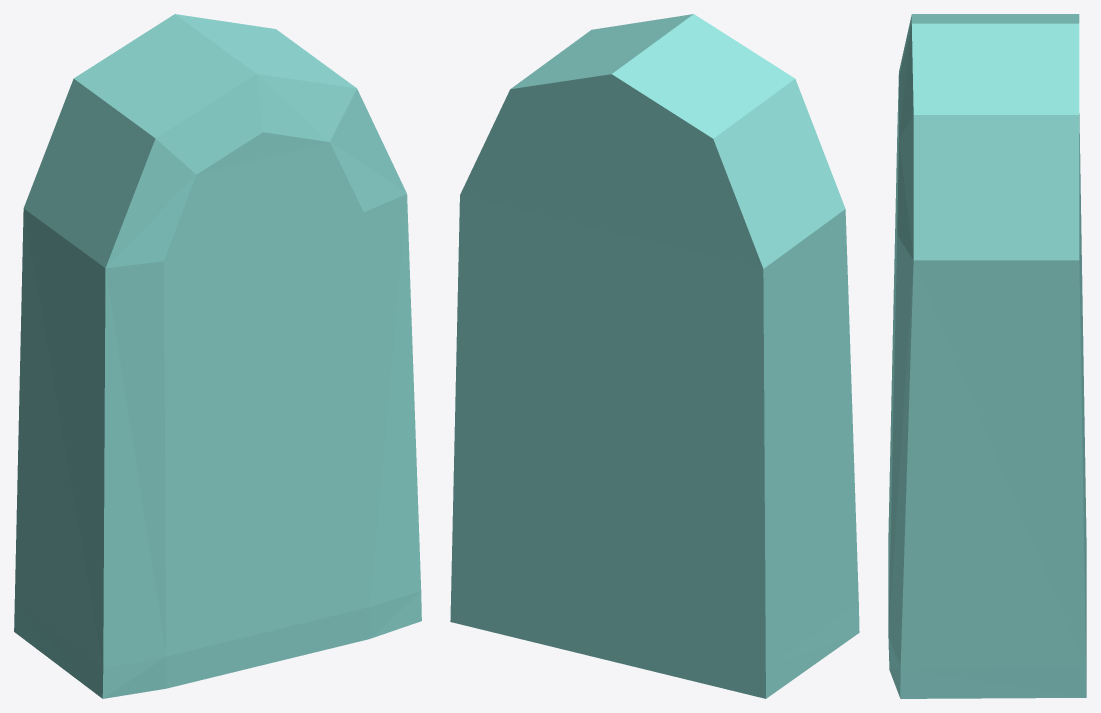
File: MusicBox_Collision.fbx
3 views of the same model, side by side, from view 1: azimuth 30°, elevation 25°; view 2: azimuth 150°, elevation 25°; view 3: azimuth 270°, elevation 25° (orthographic). The views are drawn at different scales.
Visible parts, largest first — view 1: MusicBox_Collision; view 2: MusicBox_Collision; view 3: MusicBox_Collision.
Boxes of the visible parts, x1=… form: MusicBox_Collision: x1=14, y1=14, x2=421, y2=698; MusicBox_Collision: x1=450, y1=14, x2=859, y2=698; MusicBox_Collision: x1=888, y1=14, x2=1086, y2=698.
Bounding box in the file's own units: 0.6885 × 1.2 × 0.3618.
